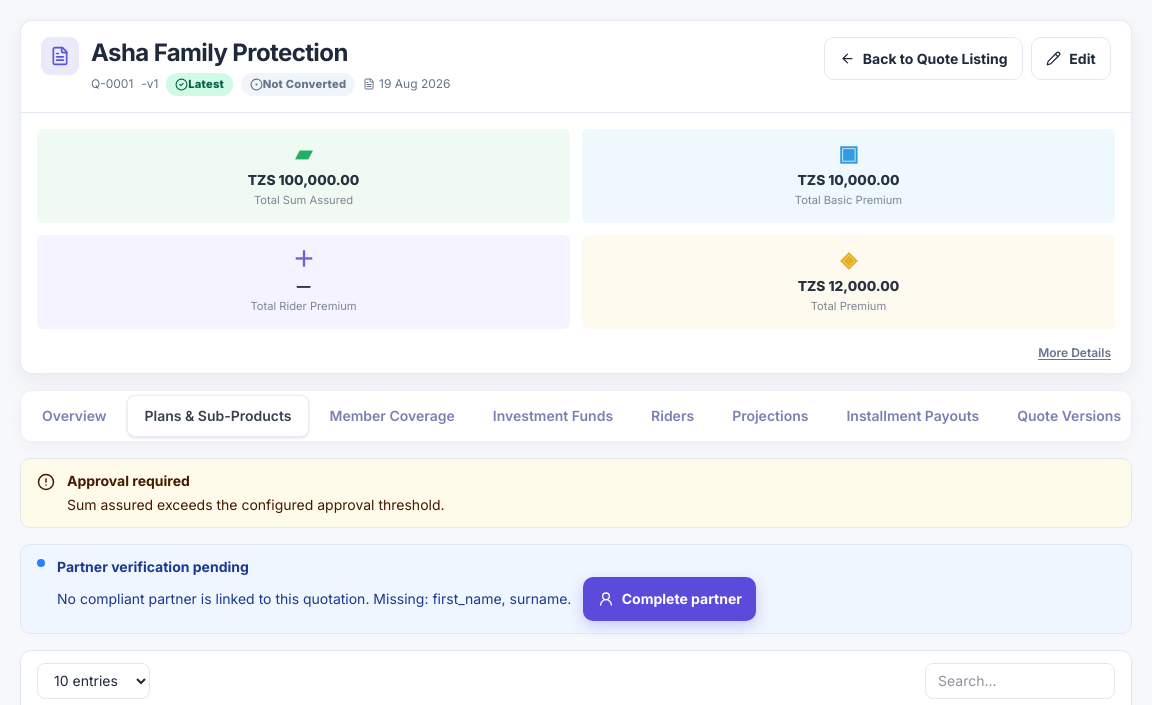
OL quotation detail lifecycle › matches the screenshot-facing detail tabs and table headings
Earlier steps of the test are not shown.
Click the button "Member Coverage": (392,416) [312,395,472,437]
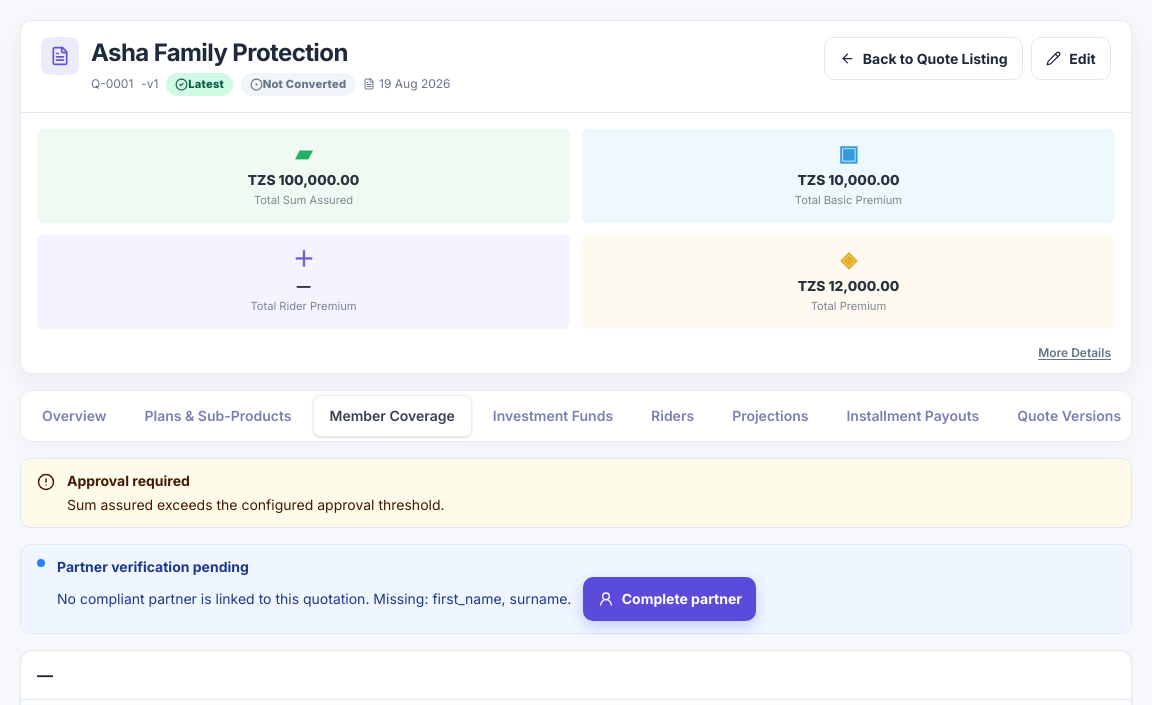
Click the button "Investment Funds": (553,416) [476,395,630,437]
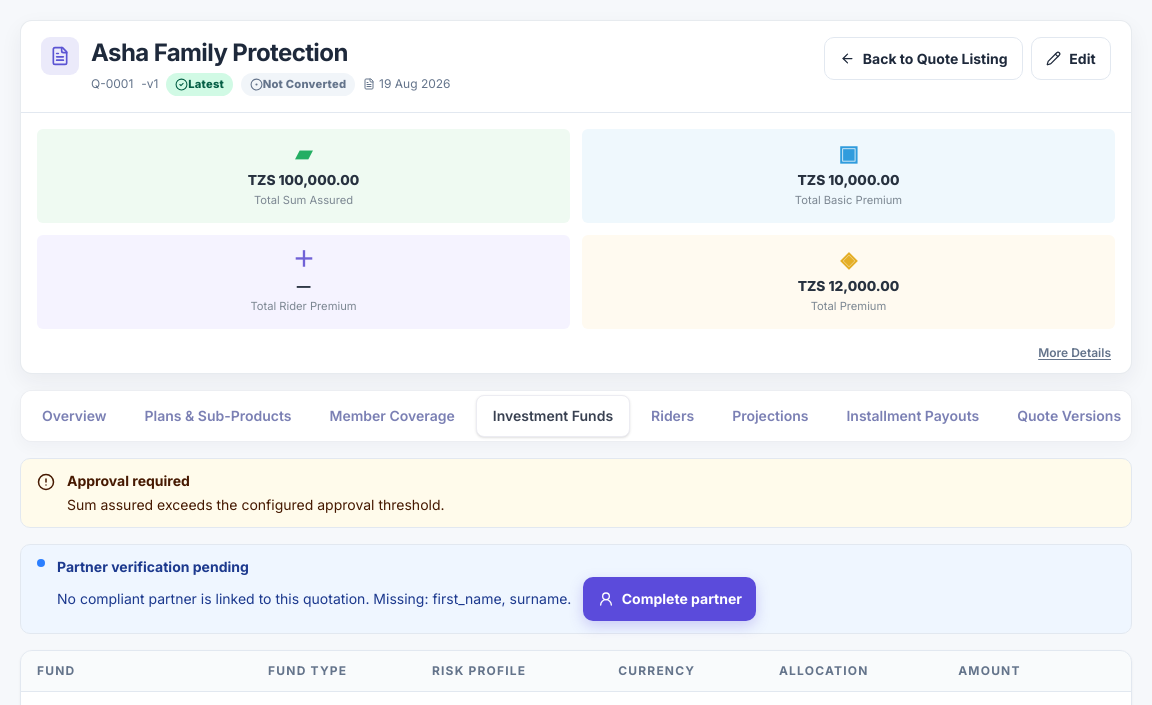
Click the button "Riders": (673,416) [634,395,711,437]
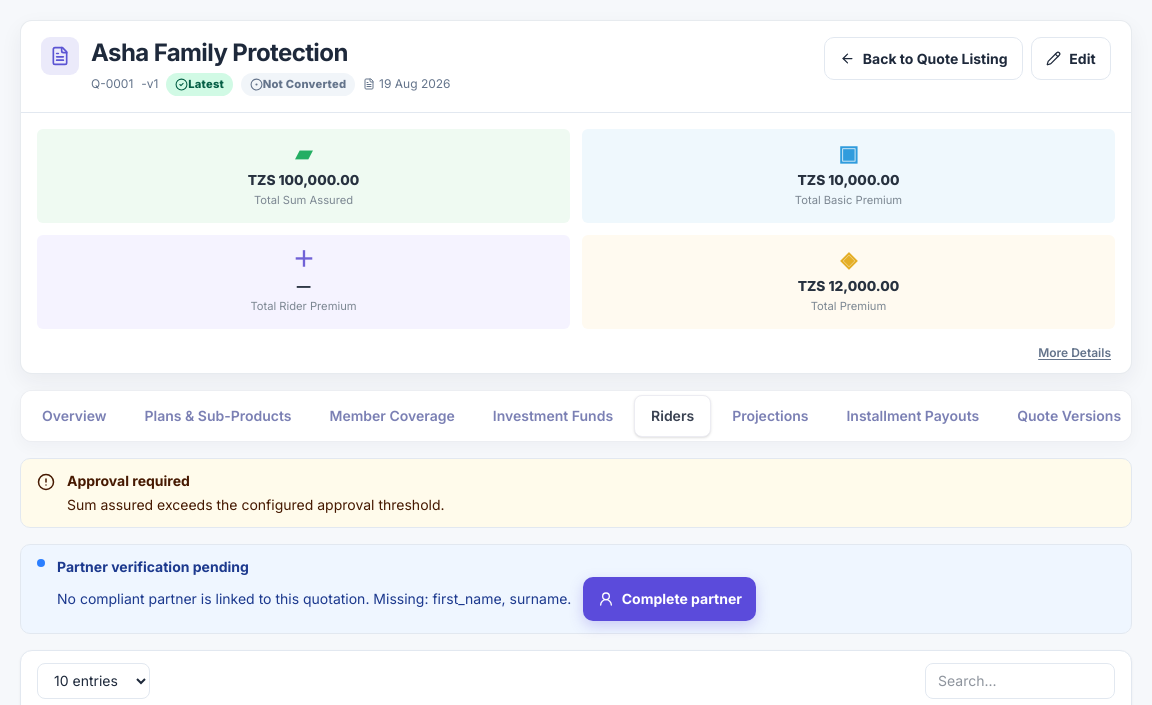
Click the button "Projections": (770,416) [715,395,825,437]
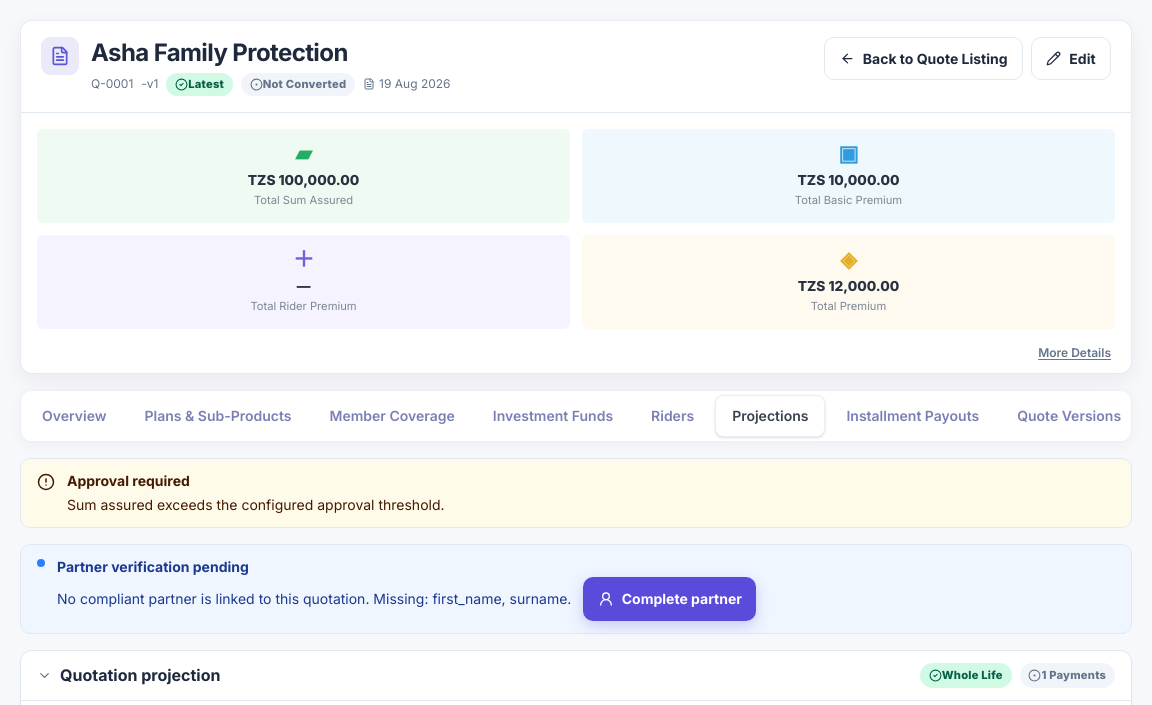
Click the button "Installment Payouts": (913,416) [829,395,996,437]
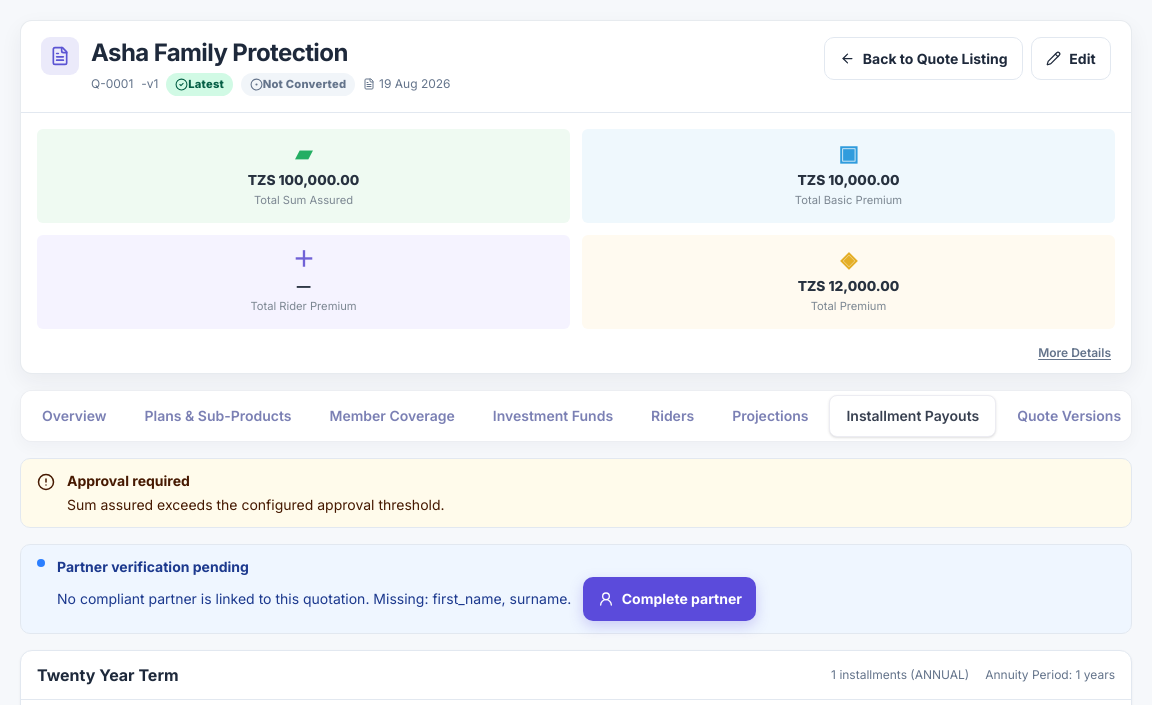
Click the button "Quote Versions": (1069,416) [1000,395,1138,437]
(page scrolled)
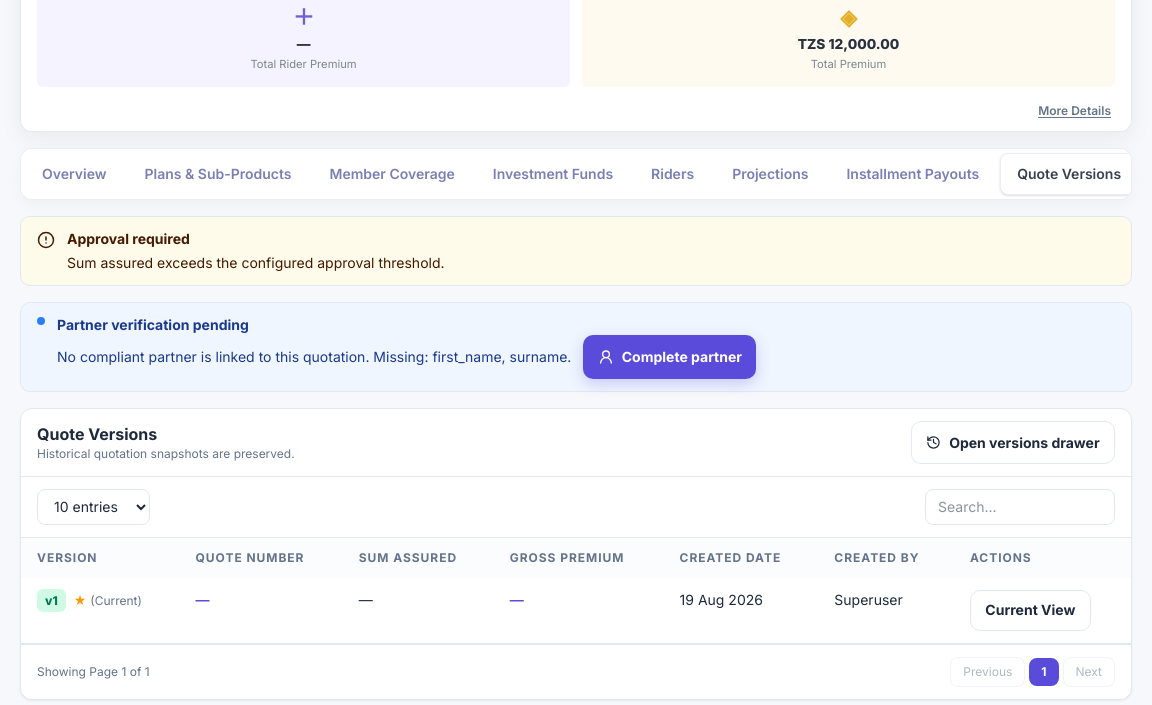
Result: the column heading "Gross Premium" is shown at [494,538,664,578]
Result: the button "Current View" is shown at [970,590,1091,631]
